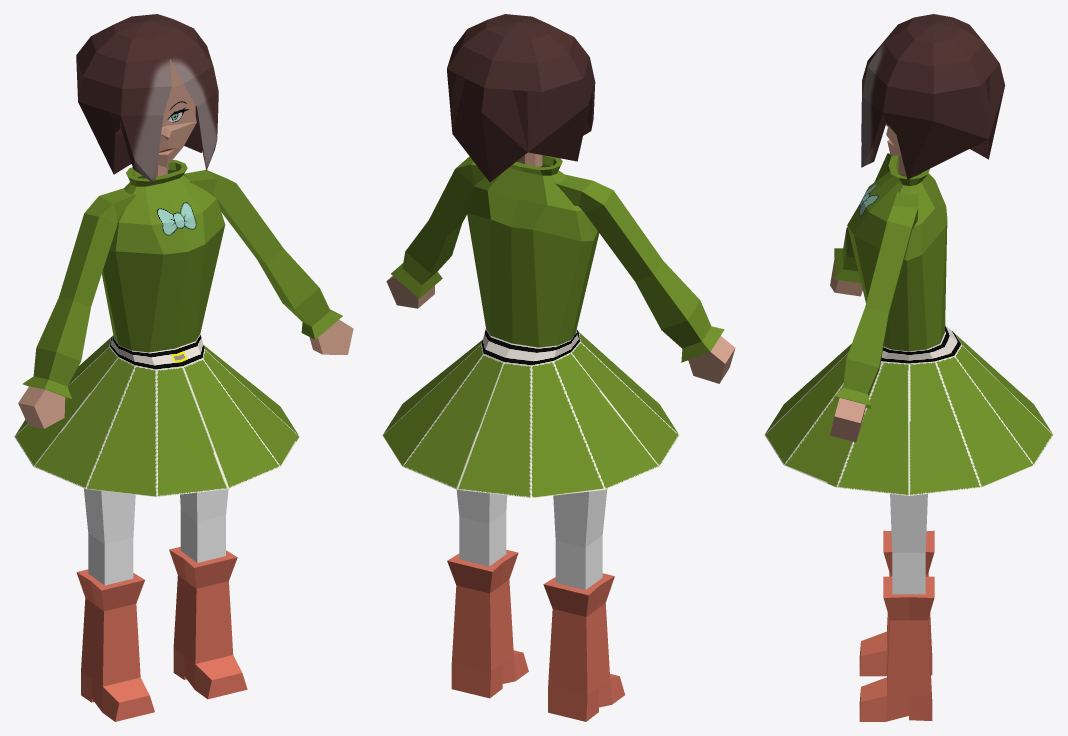
File: character.fbx
The picture shows the model from 3 angles, left to right: view 1: azimuth 30°, elevation 25°; view 2: azimuth 150°, elevation 25°; view 3: azimuth 270°, elevation 25°; orthographic projection. The views are drawn at different scales.
Visible parts, largest first — view 1: FemaleCharacter; view 2: FemaleCharacter; view 3: FemaleCharacter.
Boxes of the visible parts, bbox=[...] form: FemaleCharacter: bbox=[14, 14, 353, 721]; FemaleCharacter: bbox=[382, 14, 735, 721]; FemaleCharacter: bbox=[764, 14, 1053, 721].
Bounding box in the file's own units: 87.12 × 168 × 66.15.
Materials: 1 (1 with a texture image).
